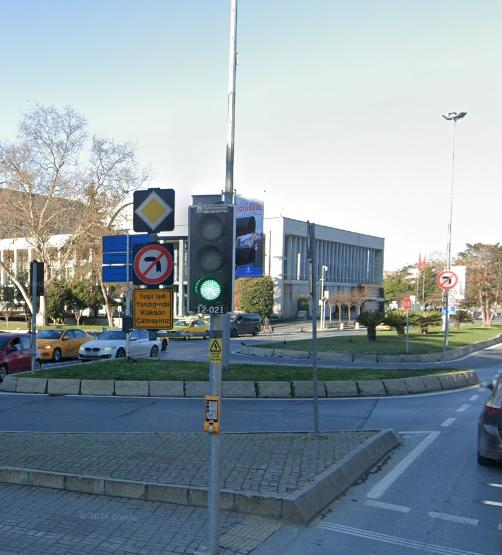greenlight: (188, 202, 231, 315)
leftturnsareforbidden: (133, 246, 168, 286), (440, 272, 458, 291)
